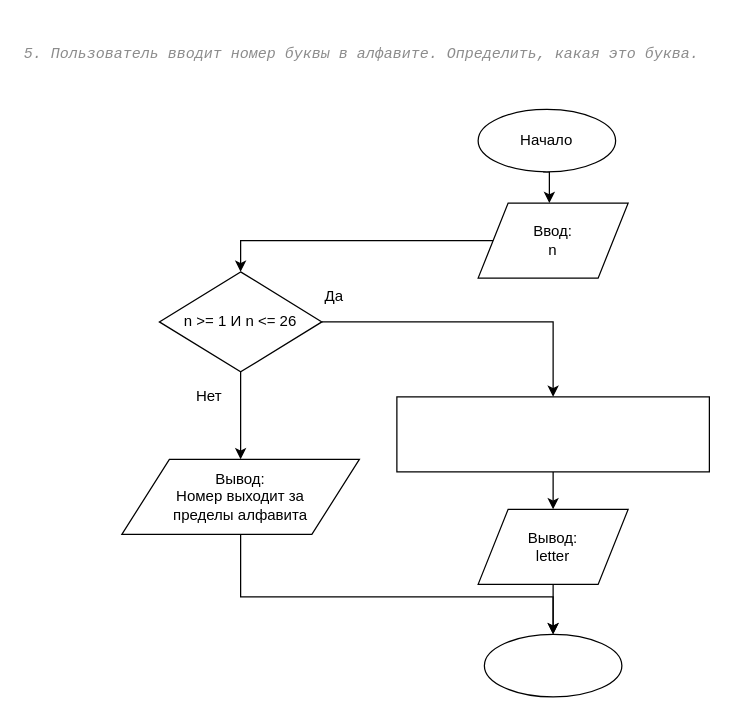
This 731x719 diagram has some shape labels left out. The shapes that lost their labels are listed below. From the top down, each one's box as (x1, y1, x2, y2) in pixels, then its label:
(396, 396, 709, 472): letter = chr(n + 96)
(483, 633, 622, 697): Конец
